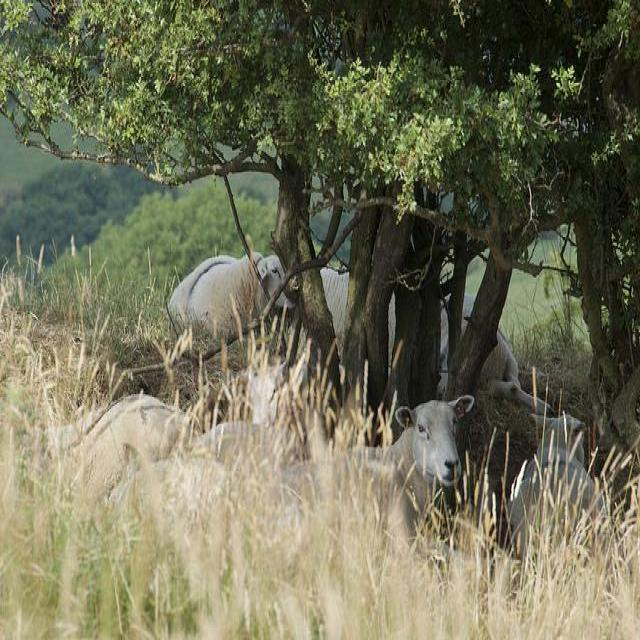Sheep: (237, 394, 478, 540), (66, 400, 203, 512), (461, 294, 554, 417), (511, 469, 614, 554), (317, 267, 397, 376), (172, 255, 283, 332), (184, 421, 312, 486), (530, 415, 590, 494), (245, 361, 292, 427)
